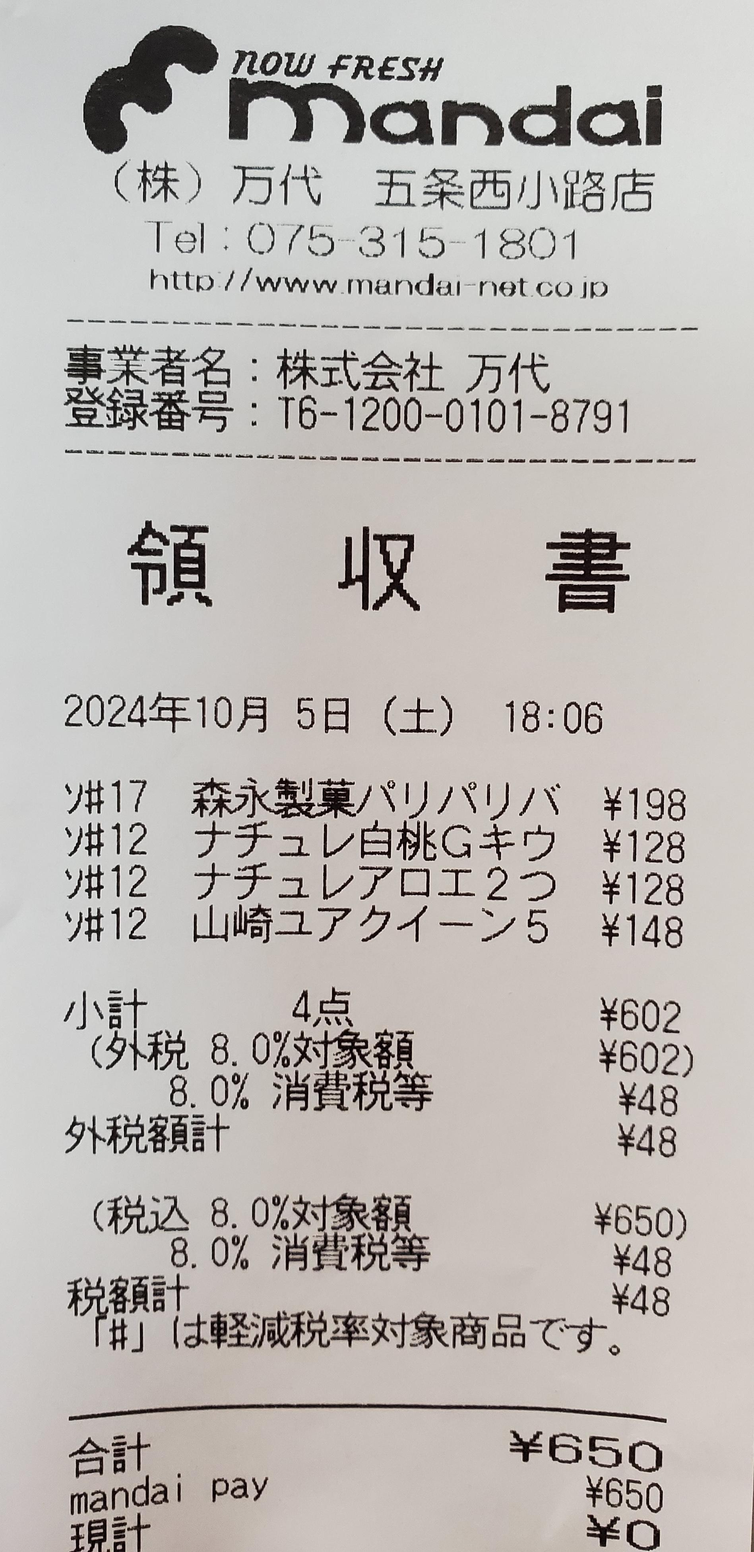TEL: (240, 219, 586, 263)
date: (60, 680, 362, 743)
total: (549, 1426, 665, 1474)
